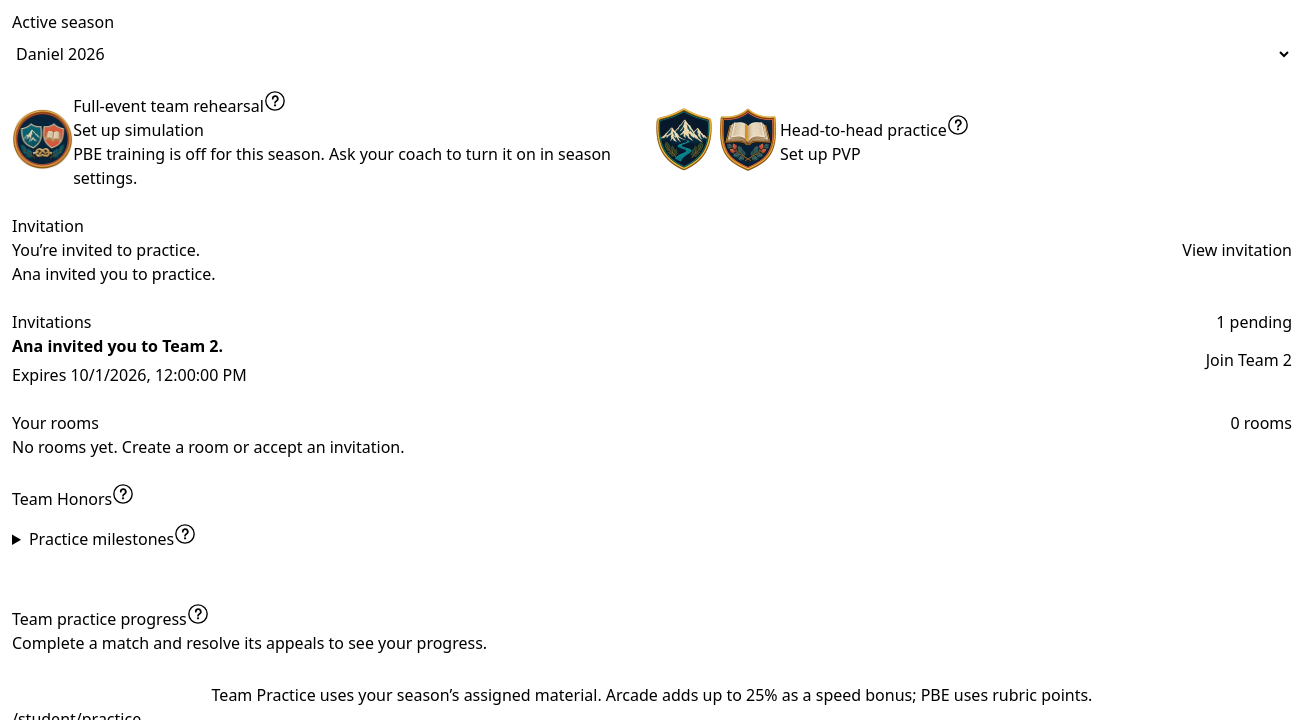
Test: Team Practice hub › accepts a team-specific invitation only for its destination team
(page scrolled)
What coordinates should you click on to do the following:
click the button "Join Team 2"
I would click on:
 (1249, 360)
Its box is left=1206, top=348, right=1292, bottom=372.
(page scrolled)
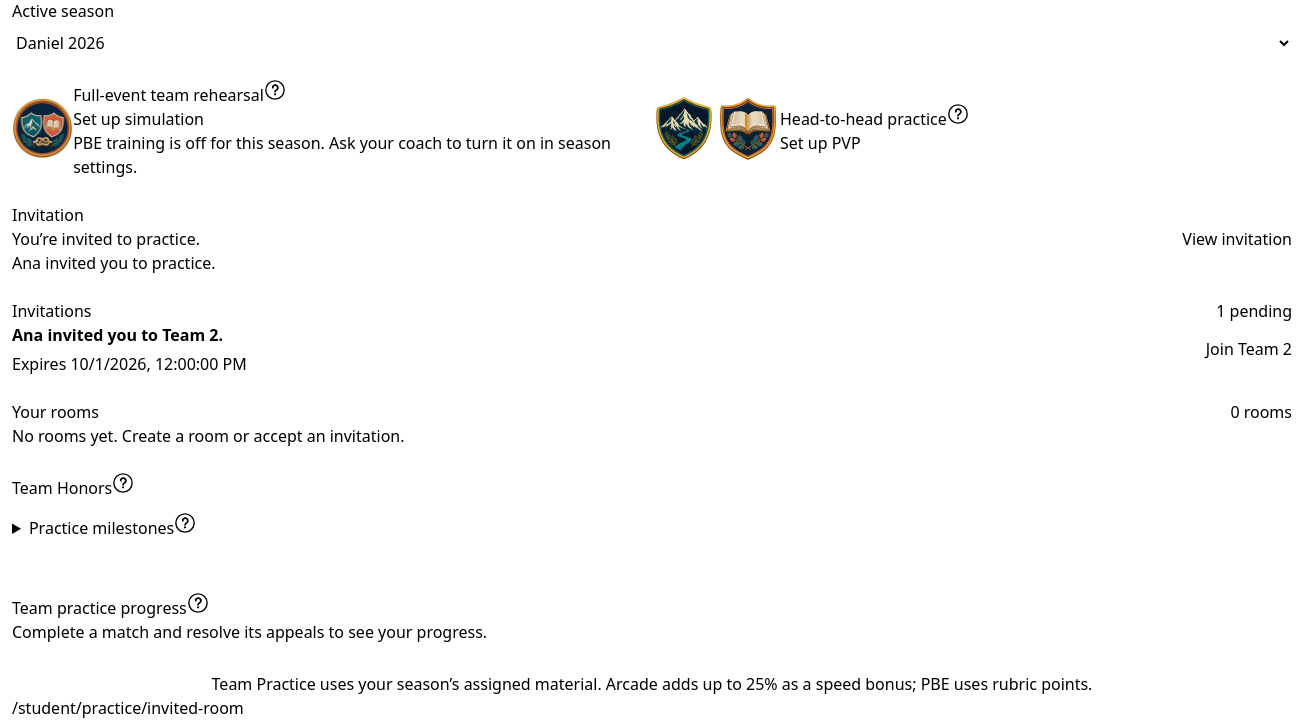
Now the text "/student/practice/invited-room" is shown, box left=12, top=697, right=244, bottom=719
